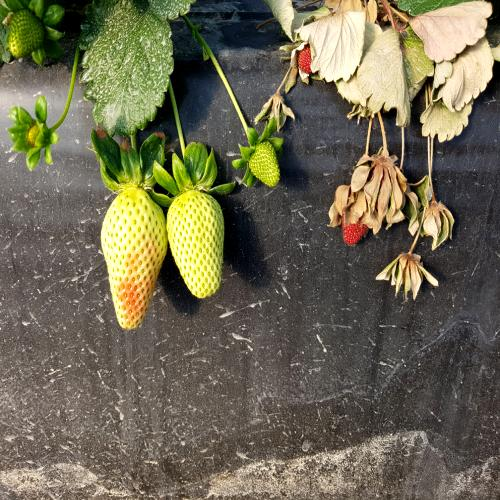partially-ripe: (95, 186, 178, 329)
unripe: (160, 171, 234, 302)
